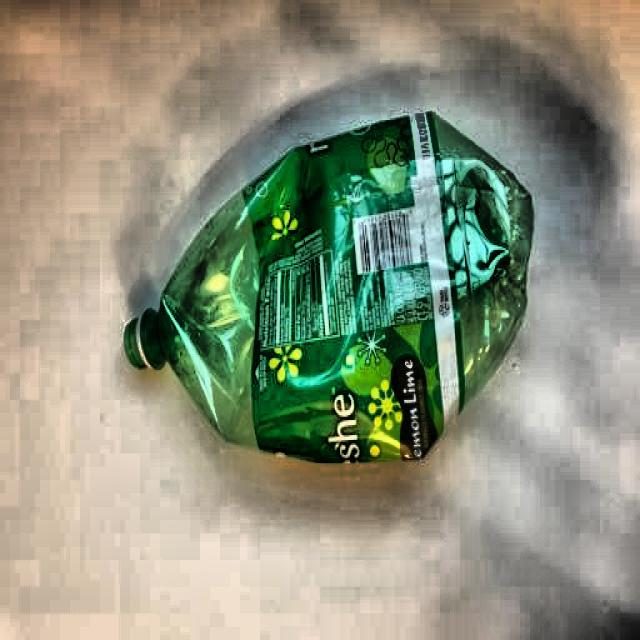plastic: (119, 112, 534, 466)
